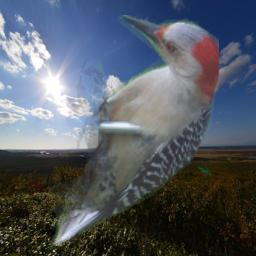Woodpecker: (48, 15, 219, 251)
